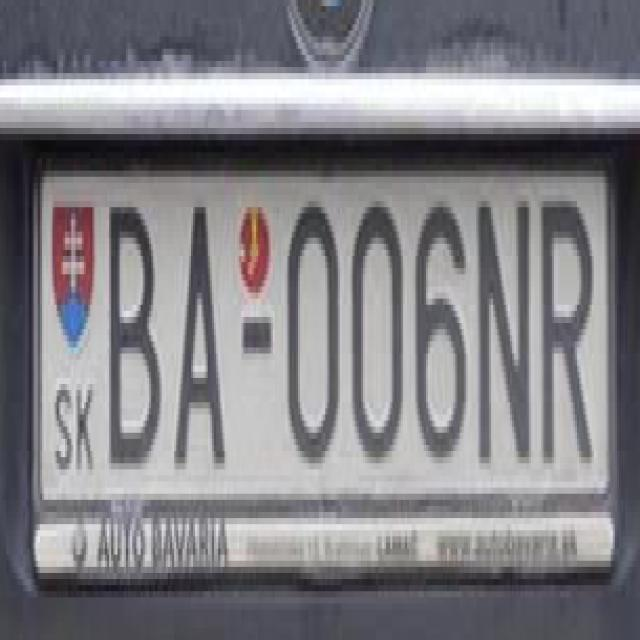Autre: (37, 167, 610, 521)
